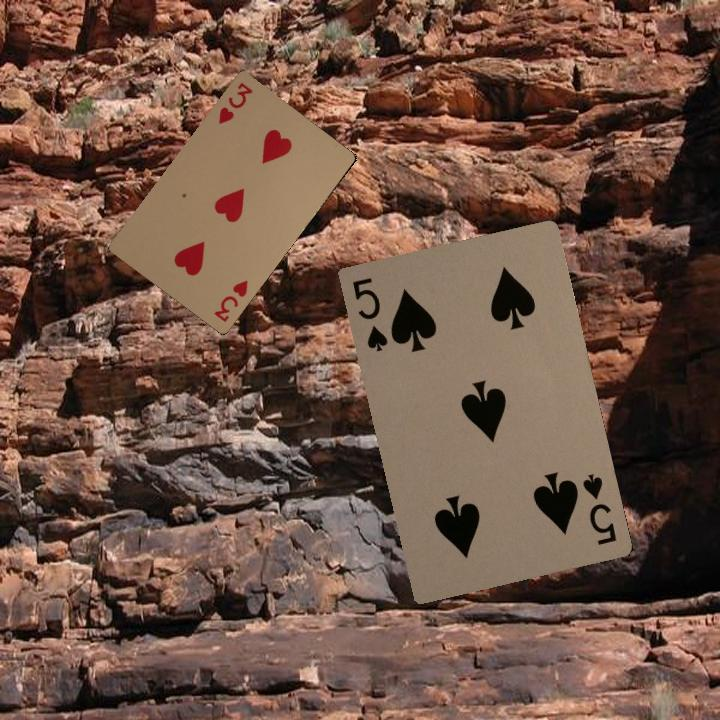3h: (210, 276, 251, 325), (214, 78, 255, 127)
5s: (348, 273, 390, 355), (578, 470, 619, 548)
